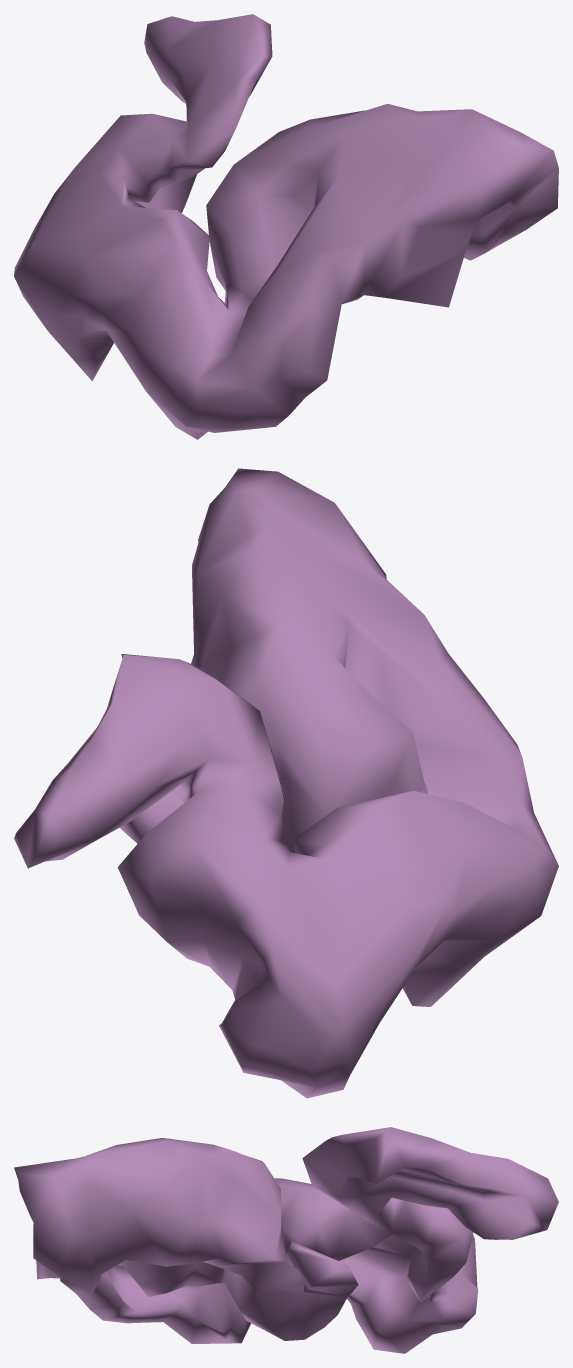
3 renders of one model, top to bottom at view 1: azimuth 30°, elevation 25°; view 2: azimuth 150°, elevation 25°; view 3: azimuth 270°, elevation 25°, orthographic. The views are drawn at different scales.
Parts seen in each view (by area): view 1: 右侧枕外侧回（枕中回）; view 2: 右侧枕外侧回（枕中回）; view 3: 右侧枕外侧回（枕中回）.
Boxes of the visible parts, x1=… form: 右侧枕外侧回（枕中回）: x1=14, y1=14, x2=558, y2=439; 右侧枕外侧回（枕中回）: x1=14, y1=468, x2=558, y2=1098; 右侧枕外侧回（枕中回）: x1=14, y1=1127, x2=558, y2=1353.
Size of the model in its own units: 0.0442 by 0.0407 by 0.0662.
